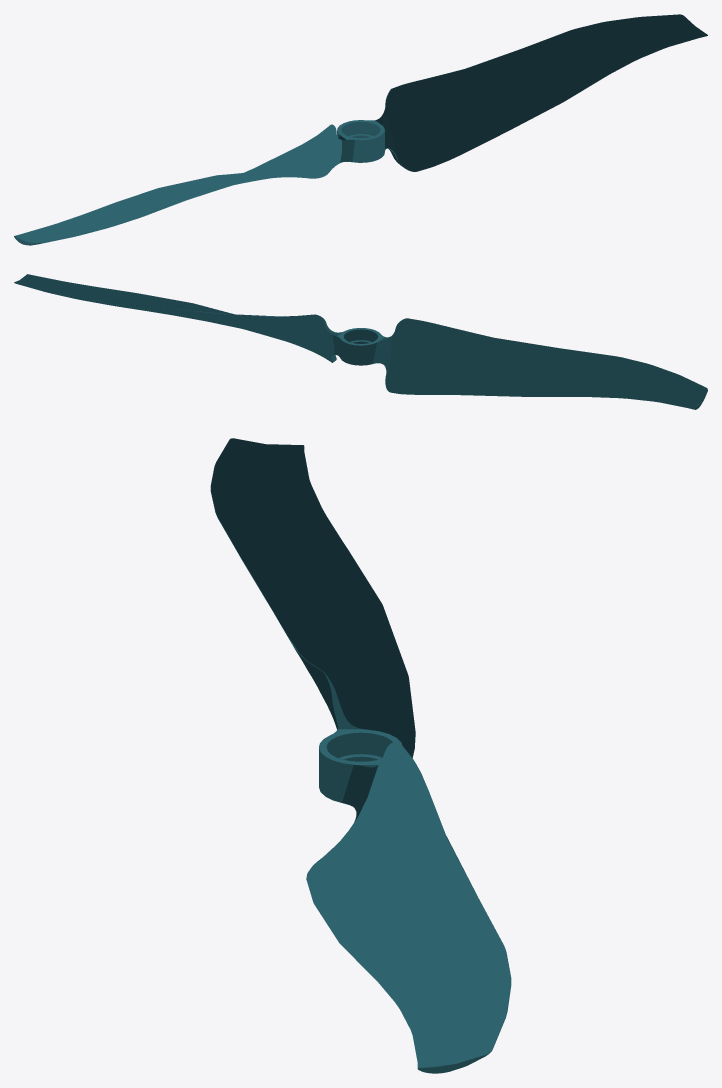
File: default_propeller_5x3_cw.dae
The picture shows the model from 3 angles, top to bottom: view 1: azimuth 30°, elevation 25°; view 2: azimuth 150°, elevation 25°; view 3: azimuth 270°, elevation 25°; orthographic projection. The views are drawn at different scales.
Visible parts, largest first — view 1: node0; view 2: node0; view 3: node0.
Part boxes in pixels (x1,y1,x2,y2): node0: (14,14,707,245); node0: (14,274,707,409); node0: (210,438,511,1073).
Size of the model in its own units: 127 by 25.81 by 11.28.
